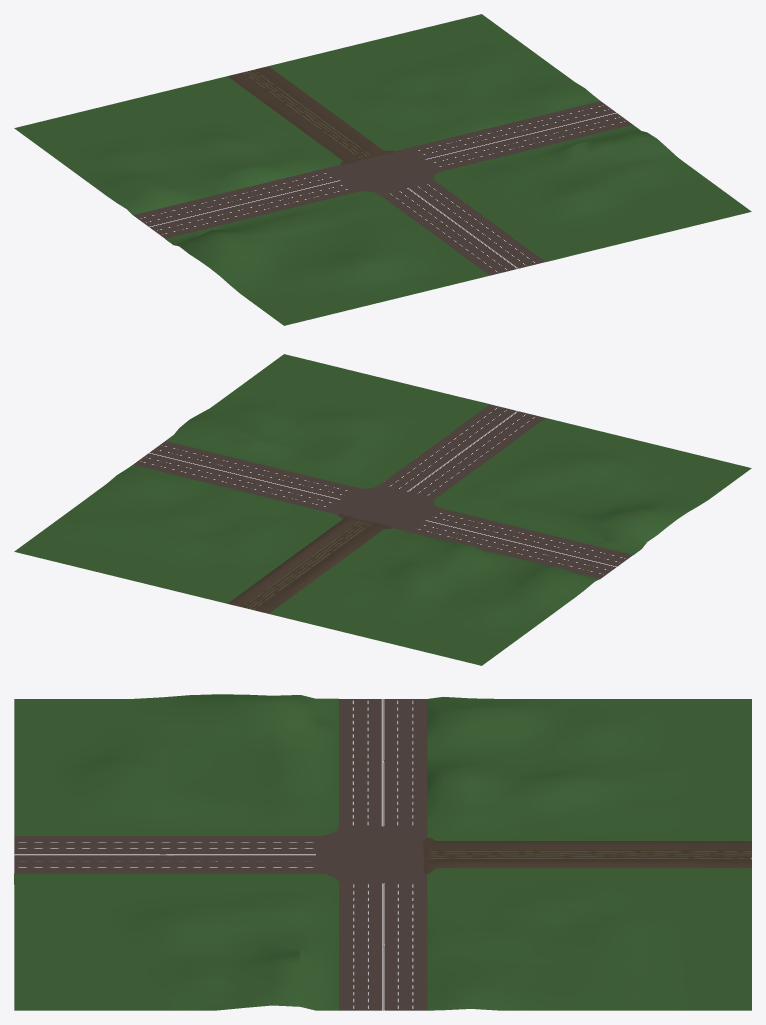
Rendered from TileHighwayForest1.fbx.
3 renders of one model, top to bottom at view 1: azimuth 30°, elevation 25°; view 2: azimuth 150°, elevation 25°; view 3: azimuth 270°, elevation 25°, orthographic. The views are drawn at different scales.
Parts seen in each view (by area): view 1: Plane.049, Plane.070, Road.003, Road.005, Road.004, Plane.048, Road1.022, Road.006; view 2: Plane.049, Plane.070, Road.003, Road.004, Road.005, Plane.048, Road1.022, Road.006; view 3: Plane.049, Plane.070, Road.004, Road.003, Road.005, Plane.048, Road1.022, Road.006.
Boxes of the visible parts, x1,y1,x2,y2 form: Plane.049: [14, 14, 599, 214]; Plane.070: [165, 125, 751, 325]; Road.003: [409, 101, 632, 171]; Road.005: [133, 168, 356, 238]; Road.004: [380, 181, 545, 275]; Plane.048: [227, 66, 395, 164]; Road1.022: [324, 148, 441, 194]; Road.006: [241, 69, 371, 158]; Plane.049: [14, 465, 599, 665]; Plane.070: [166, 354, 751, 555]; Road.003: [133, 441, 356, 511]; Road.004: [380, 404, 545, 498]; Road.005: [409, 508, 632, 578]; Plane.048: [227, 514, 392, 613]; Road1.022: [324, 485, 441, 531]; Road.006: [241, 521, 371, 610]; Plane.049: [427, 697, 751, 1010]; Plane.070: [14, 694, 338, 1010]; Road.004: [14, 836, 315, 873]; Road.003: [339, 883, 427, 1010]; Road.005: [339, 699, 427, 826]; Plane.048: [423, 837, 751, 873]; Road1.022: [316, 826, 427, 883]; Road.006: [431, 850, 751, 859].
Bounding box in the file's own units: 20013 × 543 × 20010.
